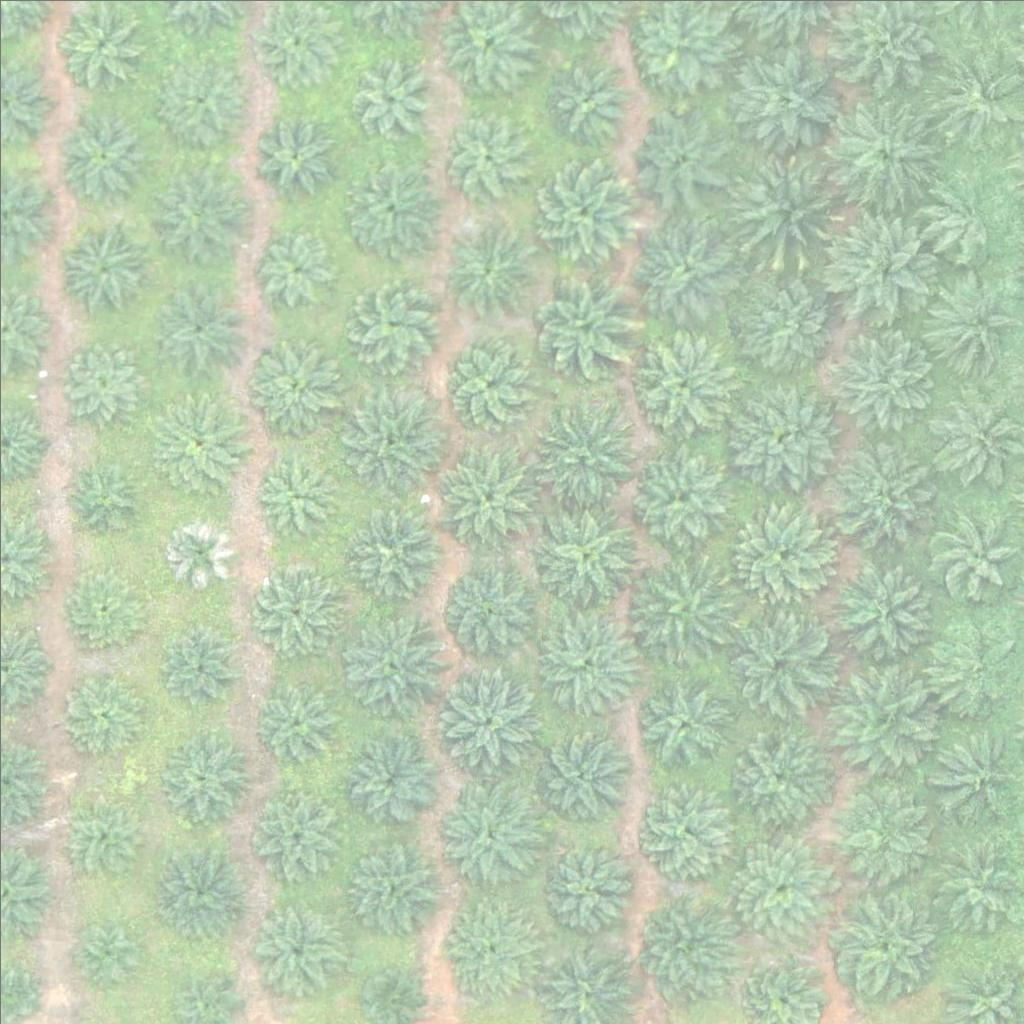Kelapa_Sawit: (722, 829, 835, 943), (718, 717, 831, 831), (621, 553, 734, 667), (529, 496, 642, 610), (521, 397, 634, 511), (823, 323, 936, 436), (334, 607, 447, 720), (527, 266, 640, 379), (525, 156, 638, 269), (726, 43, 839, 156), (821, 209, 934, 322), (830, 96, 943, 209), (532, 603, 644, 717), (335, 381, 447, 495), (821, 660, 933, 773), (823, 552, 935, 665), (719, 603, 831, 716), (720, 379, 832, 492), (428, 663, 540, 776), (729, 263, 841, 376), (730, 148, 842, 261), (827, 440, 927, 541), (729, 504, 829, 605), (632, 890, 732, 991), (627, 447, 727, 548), (531, 831, 631, 932), (529, 725, 629, 826), (438, 893, 538, 994), (436, 787, 536, 888), (342, 835, 442, 936), (339, 727, 439, 828), (341, 503, 441, 604), (245, 897, 345, 998), (143, 394, 243, 495), (55, 329, 155, 430), (55, 219, 155, 320), (149, 279, 249, 380), (438, 219, 538, 320), (634, 332, 734, 433), (637, 220, 737, 321), (628, 104, 728, 205), (922, 274, 1022, 375), (836, 891, 936, 991), (823, 781, 923, 881), (632, 782, 732, 882), (629, 671, 729, 771), (437, 560, 537, 660), (435, 443, 535, 543), (146, 164, 246, 264), (241, 336, 341, 436), (342, 274, 442, 374), (338, 158, 438, 258), (438, 333, 538, 433), (249, 785, 337, 874), (59, 561, 147, 650), (58, 455, 146, 543), (930, 728, 1018, 816), (155, 843, 243, 931), (158, 730, 246, 818), (56, 664, 144, 752), (250, 219, 338, 307), (541, 55, 629, 143), (925, 170, 1013, 258), (926, 838, 1013, 926), (927, 624, 1014, 712), (932, 510, 1019, 598), (931, 394, 1018, 482), (253, 672, 340, 760), (250, 562, 337, 650), (59, 108, 146, 196), (156, 48, 243, 136), (344, 56, 431, 144), (442, 112, 529, 200), (256, 457, 331, 533), (254, 114, 329, 190), (256, 3, 331, 79), (66, 793, 141, 868), (162, 625, 237, 700), (160, 511, 235, 586), (76, 925, 139, 988)
